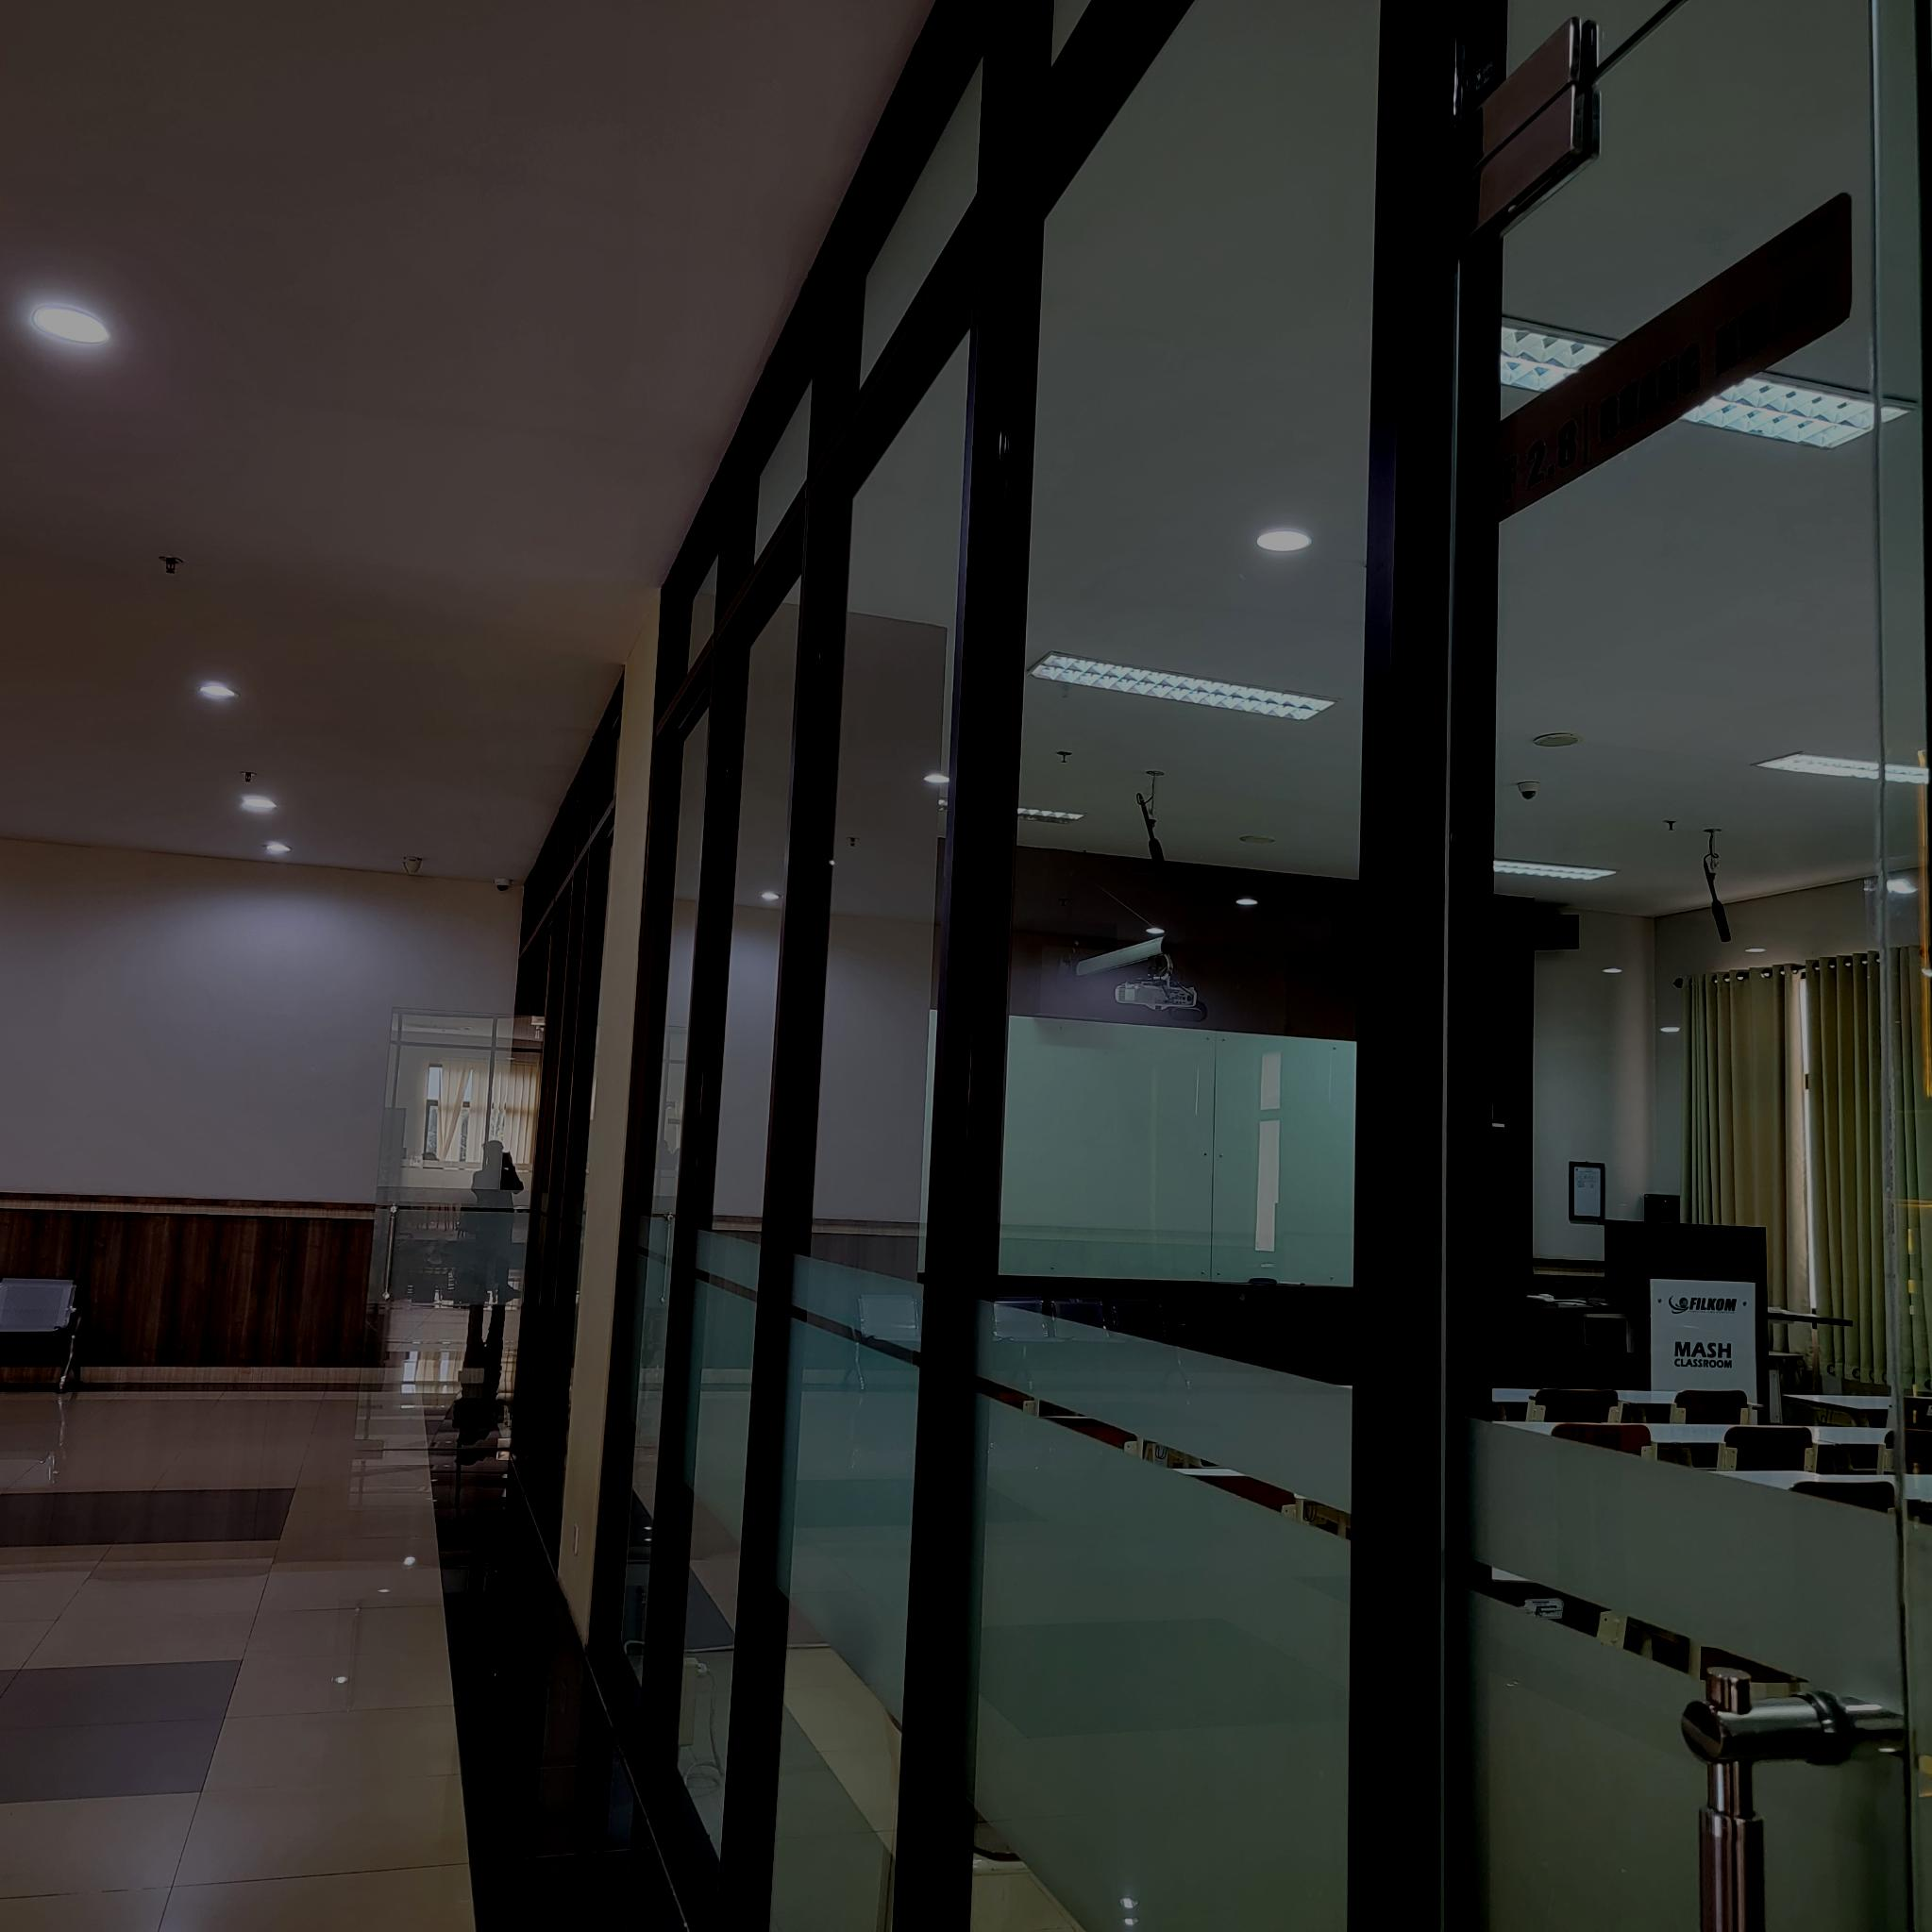plate: (1491, 191, 1856, 522)
